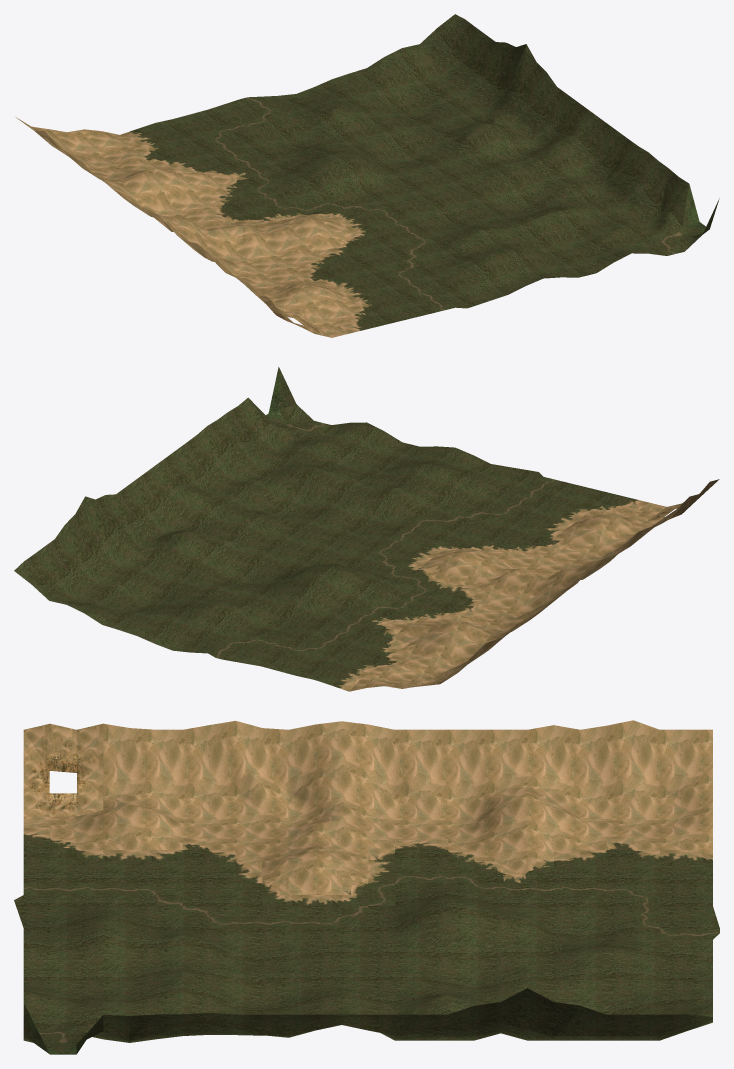
Rendered from ecommons-colldier2.fbx.
3 views of the same model, one above another, from view 1: azimuth 30°, elevation 25°; view 2: azimuth 150°, elevation 25°; view 3: azimuth 270°, elevation 25° (orthographic). The views are drawn at different scales.
Parts seen in each view (by area): view 1: CollisionEC2; view 2: CollisionEC2; view 3: CollisionEC2.
Boxes of the visible parts, box(x1,y1,x2,y2) form: CollisionEC2: box(16, 14, 719, 337); CollisionEC2: box(14, 367, 719, 691); CollisionEC2: box(14, 720, 719, 1054).
Bounding box in the file's own units: 2500 × 370 × 2663.
